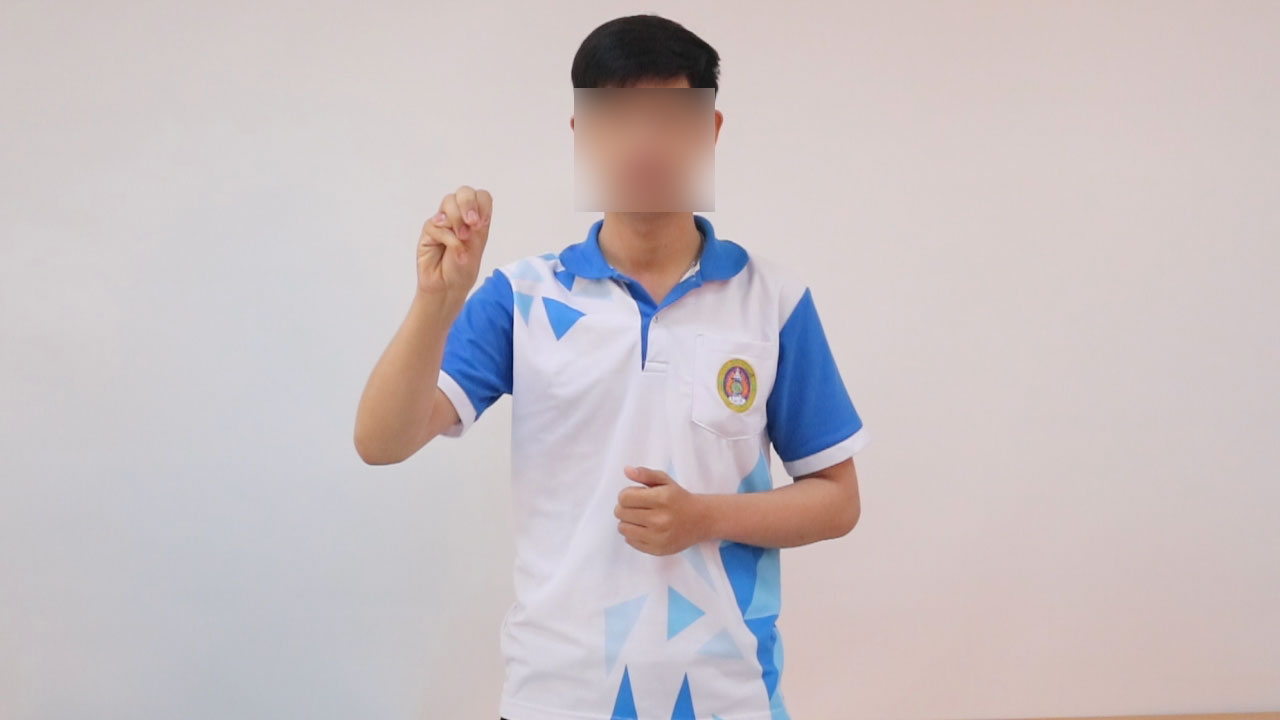mor: (407, 162, 496, 318)
